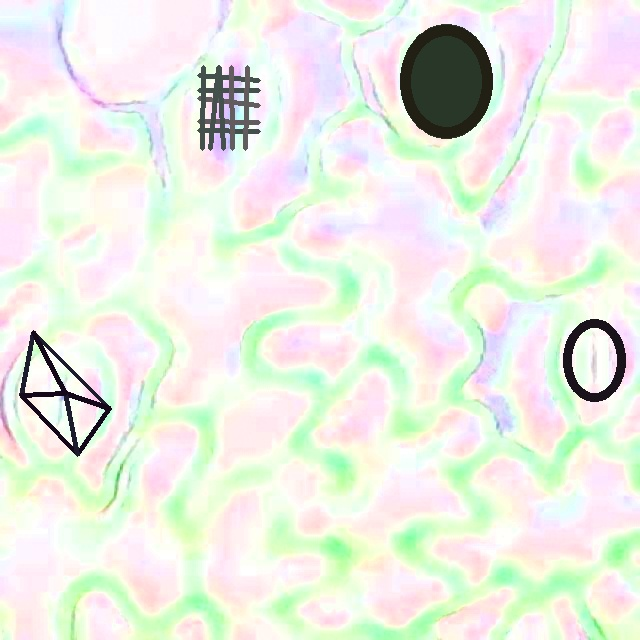close: (19, 330, 111, 456), (400, 24, 492, 138)
open: (197, 65, 260, 150), (563, 317, 626, 402)
